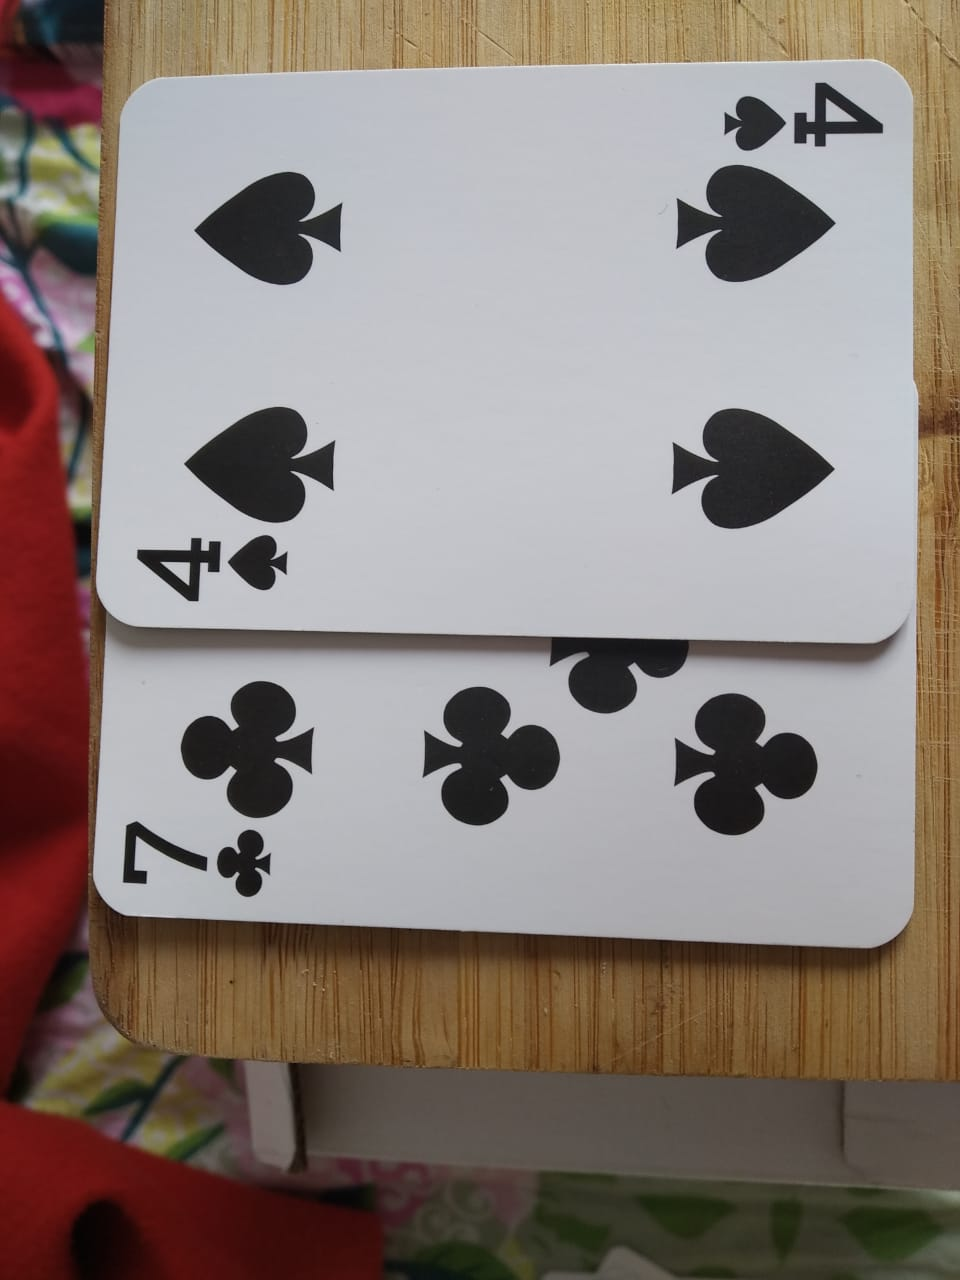four: (99, 68, 922, 655)
seven: (61, 376, 928, 966)
